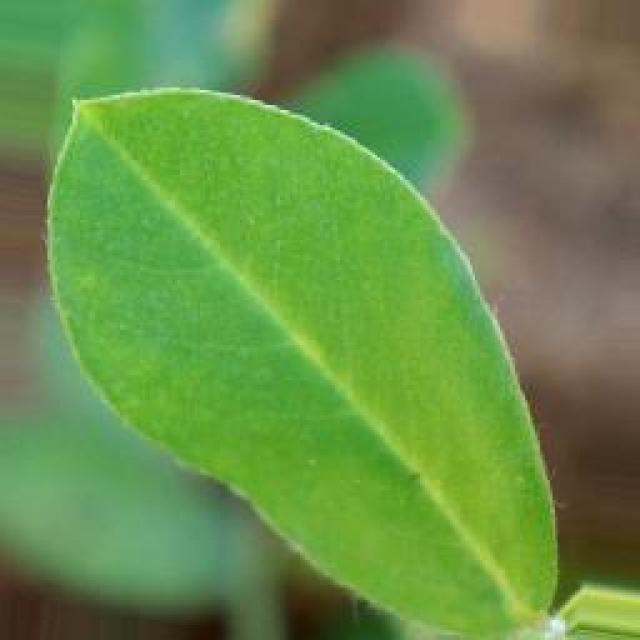Yellow_and_black_sigatoka: (44, 84, 560, 632)
